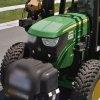Tractor: (8, 6, 100, 100)
